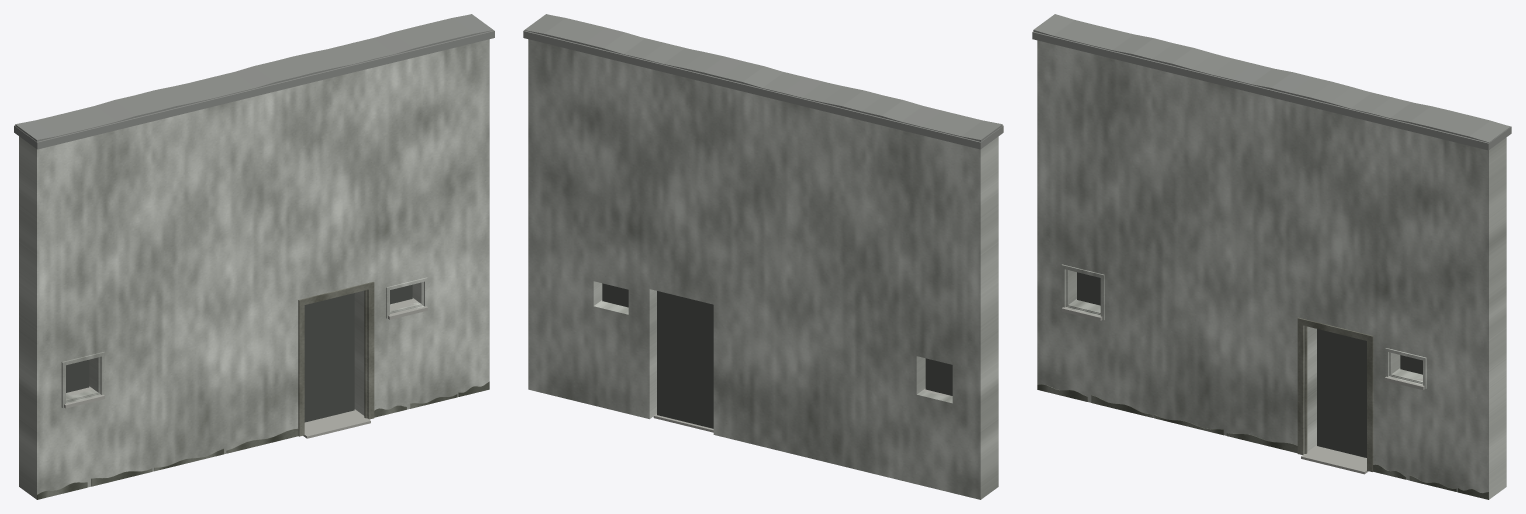
The model's file is liantang-lu-rice-house-riverside-gate-far.glb.
The picture shows the model from 3 angles, left to right: view 1: azimuth 30°, elevation 25°; view 2: azimuth 150°, elevation 25°; view 3: azimuth 330°, elevation 25°; orthographic projection.
Visible parts, largest first — view 1: 练塘陆家米行旧址沿河院墙与石框门洞; view 2: 练塘陆家米行旧址沿河院墙与石框门洞; view 3: 练塘陆家米行旧址沿河院墙与石框门洞.
Boxes of the visible parts, bbox=[...] form: 练塘陆家米行旧址沿河院墙与石框门洞: bbox=[14, 14, 494, 499]; 练塘陆家米行旧址沿河院墙与石框门洞: bbox=[523, 14, 1003, 499]; 练塘陆家米行旧址沿河院墙与石框门洞: bbox=[1032, 14, 1511, 499].
Size of the model in its own units: 6.51 by 4.94 by 0.578.
6 materials, 3 textured.
